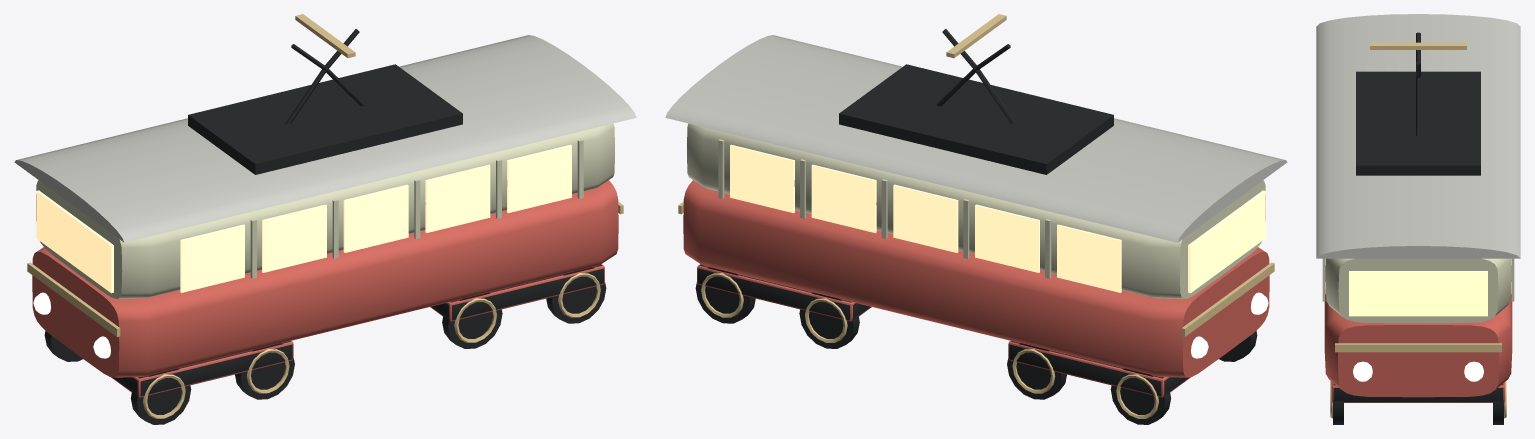
File: tram_rainport.glb
3 renders of one model, left to right at view 1: azimuth 30°, elevation 25°; view 2: azimuth 150°, elevation 25°; view 3: azimuth 270°, elevation 25°, orthographic. The views are drawn at different scales.
Parts seen in each view (by area): view 1: tram_rainport; view 2: tram_rainport; view 3: tram_rainport.
Boxes of the visible parts, x1,y1,x2,y2 form: tram_rainport: (14,14,636,424); tram_rainport: (665,14,1287,424); tram_rainport: (1316,14,1520,424).
Bounding box in the file's own units: 8.04 × 4.51 × 2.94.
